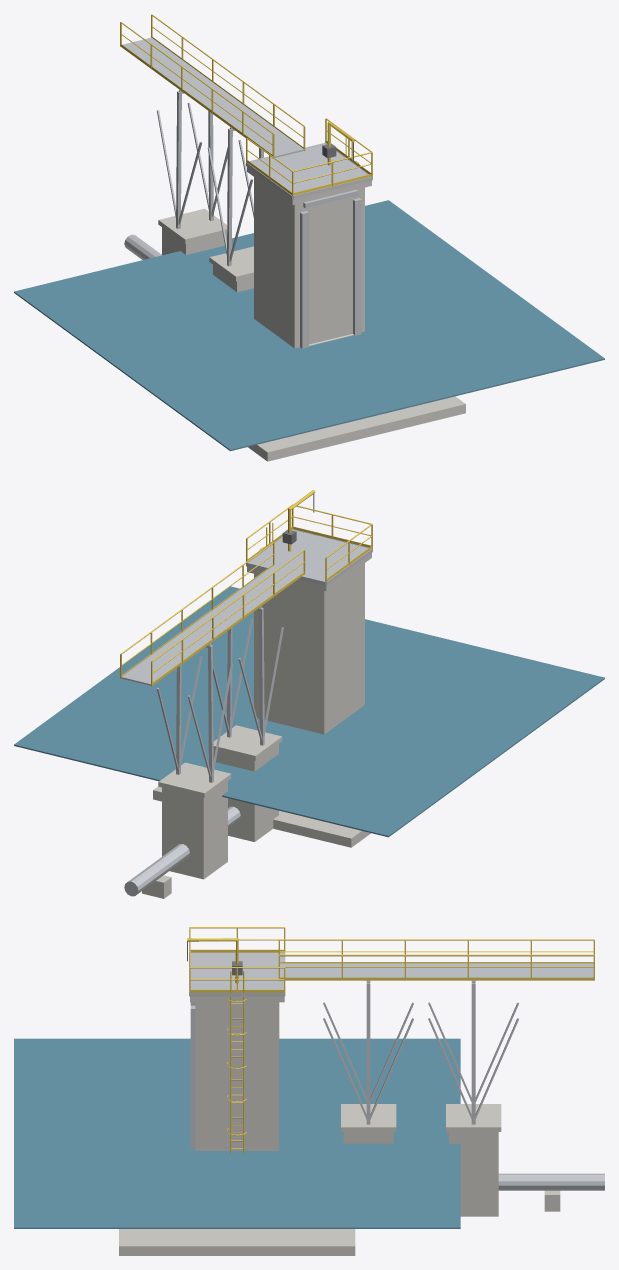
Rendered from ore-processing-and-haulage-plant-decant-tower-f01151e1.glb.
3 renders of one model, top to bottom at view 1: azimuth 30°, elevation 25°; view 2: azimuth 150°, elevation 25°; view 3: azimuth 270°, elevation 25°, orthographic. The views are drawn at different scales.
Visible parts, largest first — view 1: decant-tower; view 2: decant-tower; view 3: decant-tower.
Boxes of the visible parts, x1,y1,x2,y2 form: decant-tower: (14, 14, 604, 461); decant-tower: (14, 490, 604, 898); decant-tower: (14, 927, 604, 1255).
Bounding box in the file's own units: 17 × 11.67 × 22.5.
